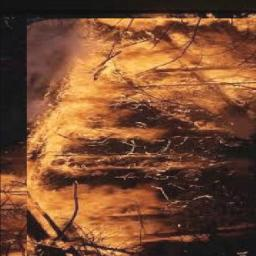Large fire: (29, 17, 256, 235)
